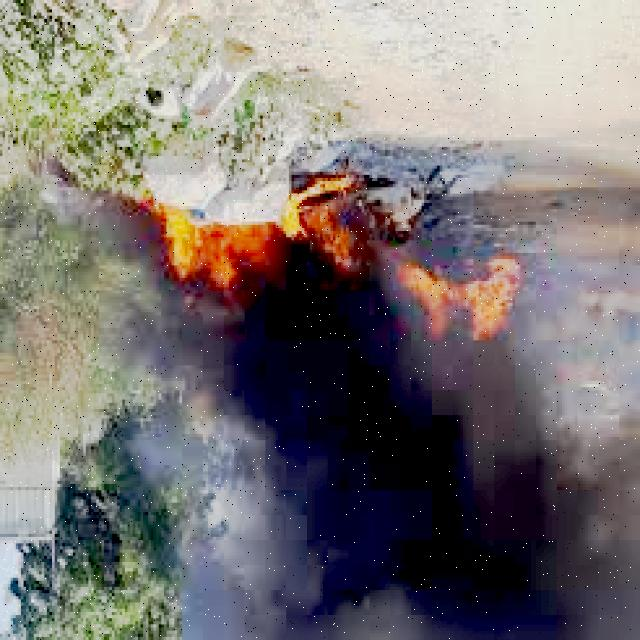api: (472, 242, 516, 346), (285, 178, 353, 241), (166, 216, 268, 256), (404, 273, 457, 325), (171, 256, 229, 286), (327, 243, 355, 272)
asap: (62, 337, 638, 640), (28, 174, 162, 286)
